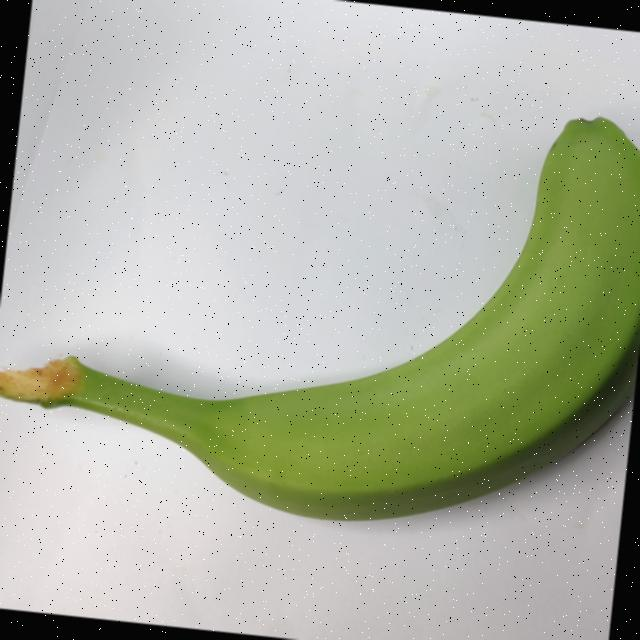Raw: (0, 19, 640, 585)
